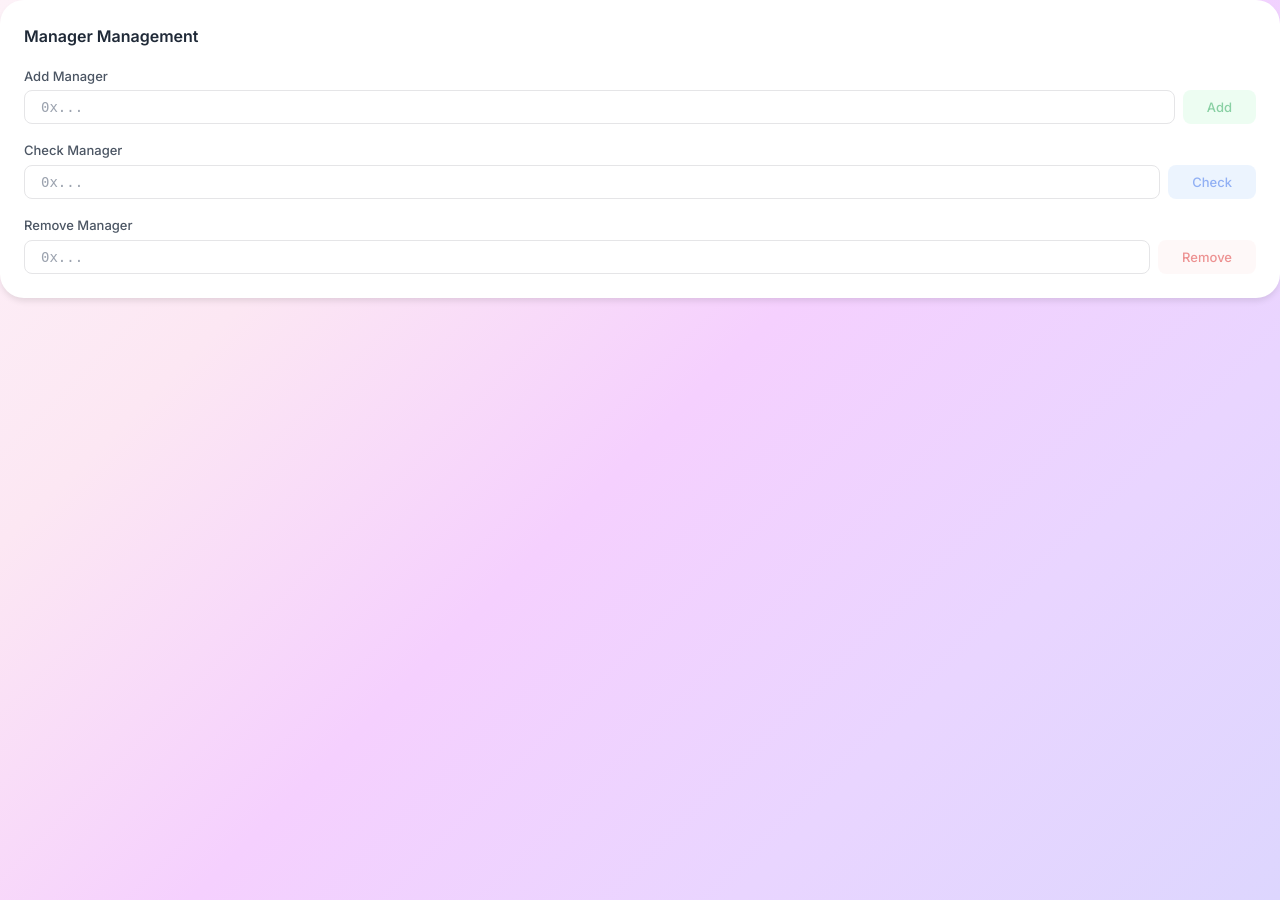
Test: ManagerManagement › Add Manager › shows error message when address is already a manager
Type "0x1234567890123456789012345678901234567890" into the field with placeholder "0x..." below "Add Manager" at (599, 107), box [24, 90, 1175, 124]
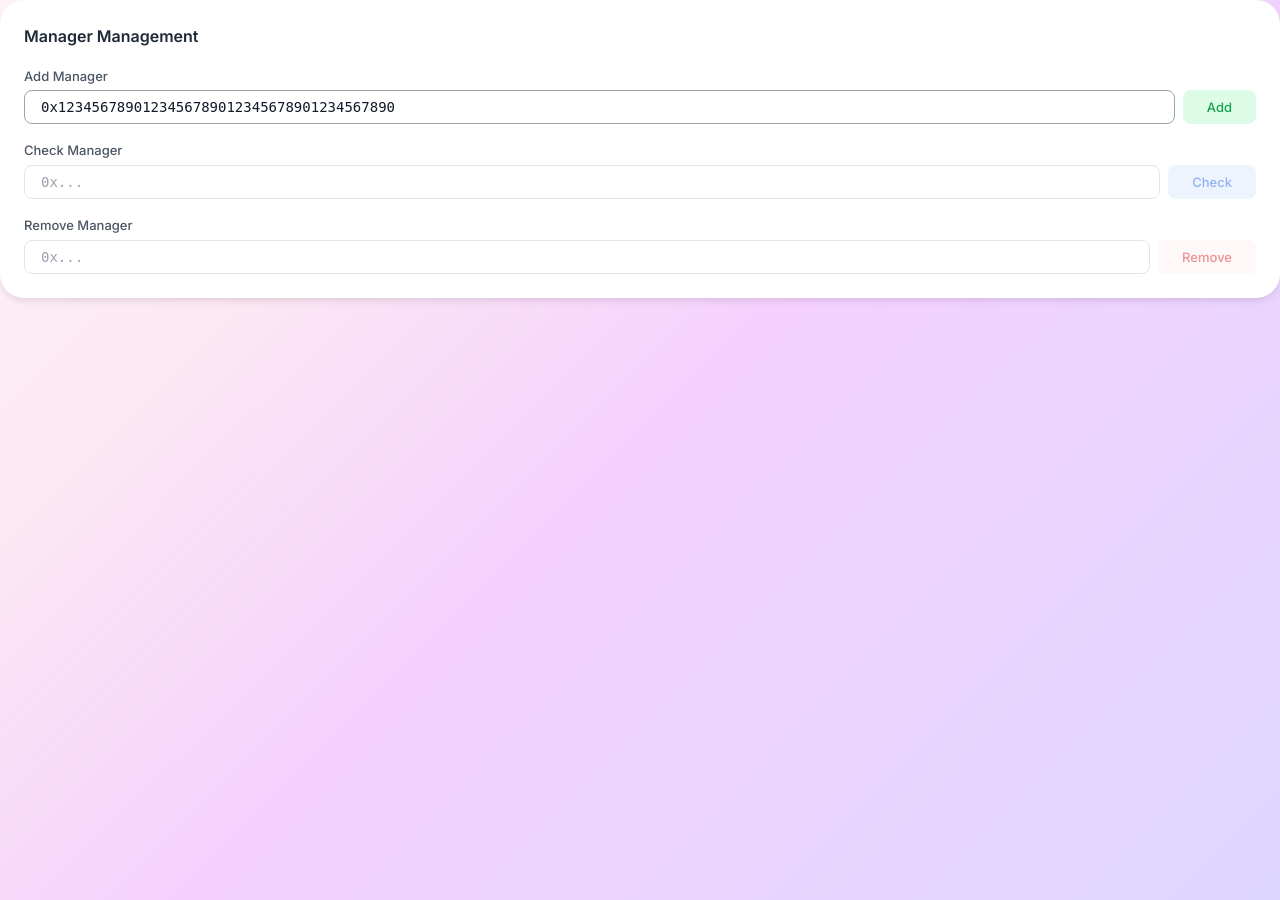
Click the button "Add" at (1219, 107), box [1183, 90, 1256, 124]
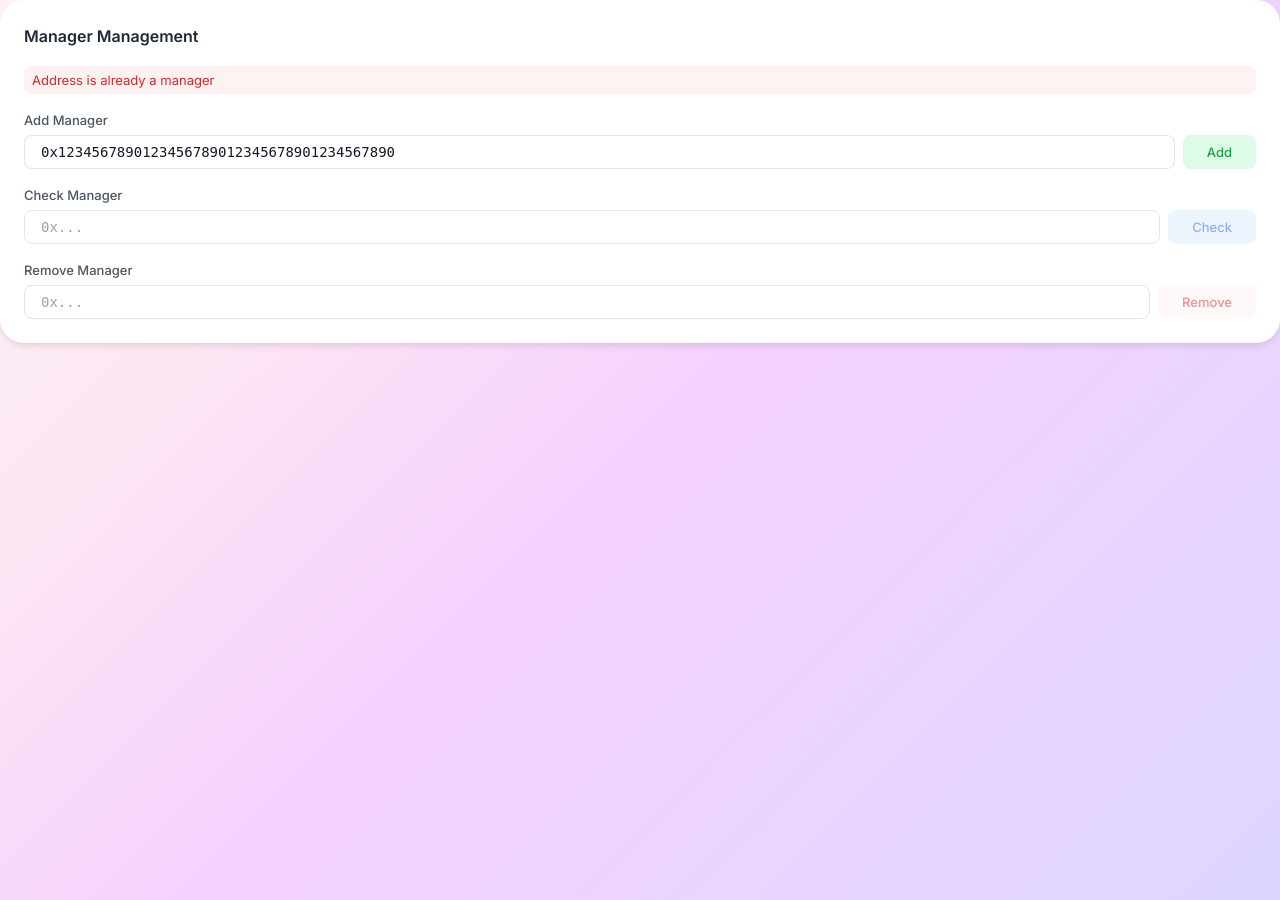
Check: the text "Address is already a manager" is shown, box [24, 66, 1256, 94]
